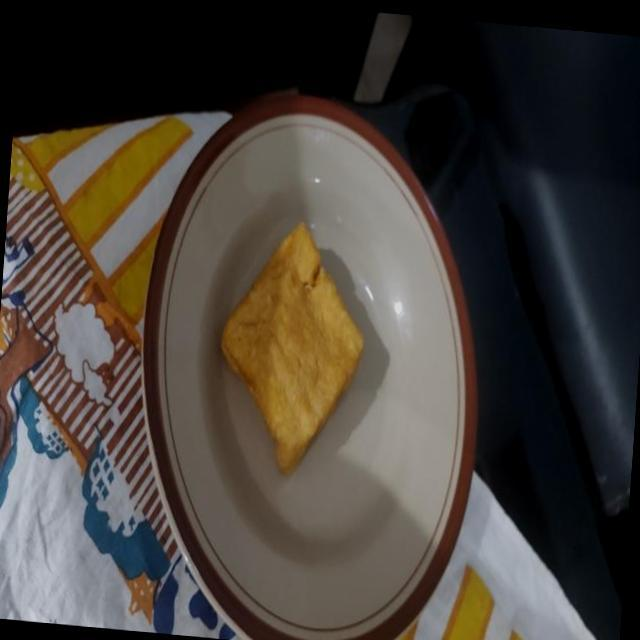tahu_goreng: (221, 222, 363, 474)
